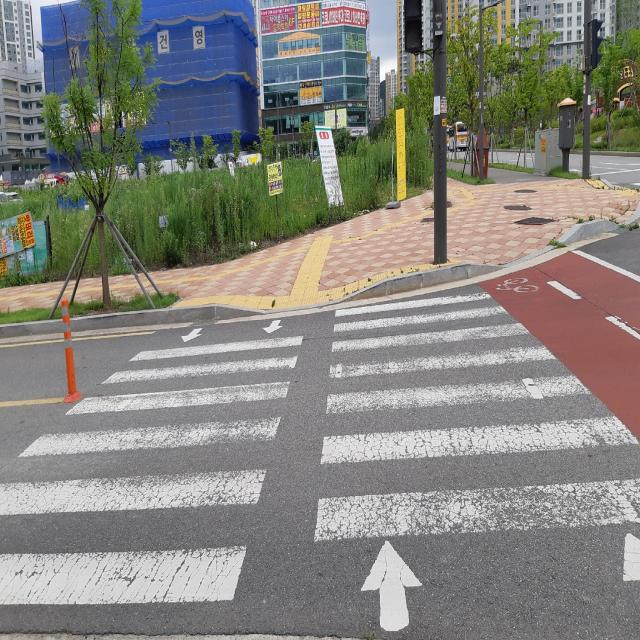횡단보도: (0, 289, 640, 635)
